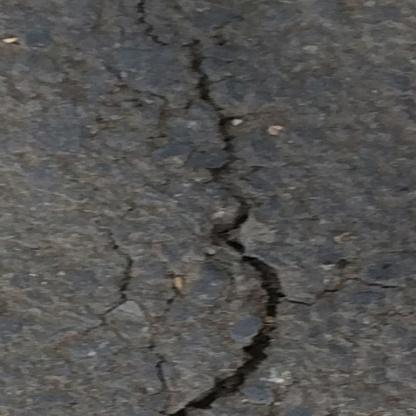Cracks: (148, 190, 317, 416), (179, 35, 248, 189), (82, 254, 139, 338), (132, 0, 173, 51), (150, 350, 174, 400), (344, 274, 401, 293), (318, 285, 344, 299)
